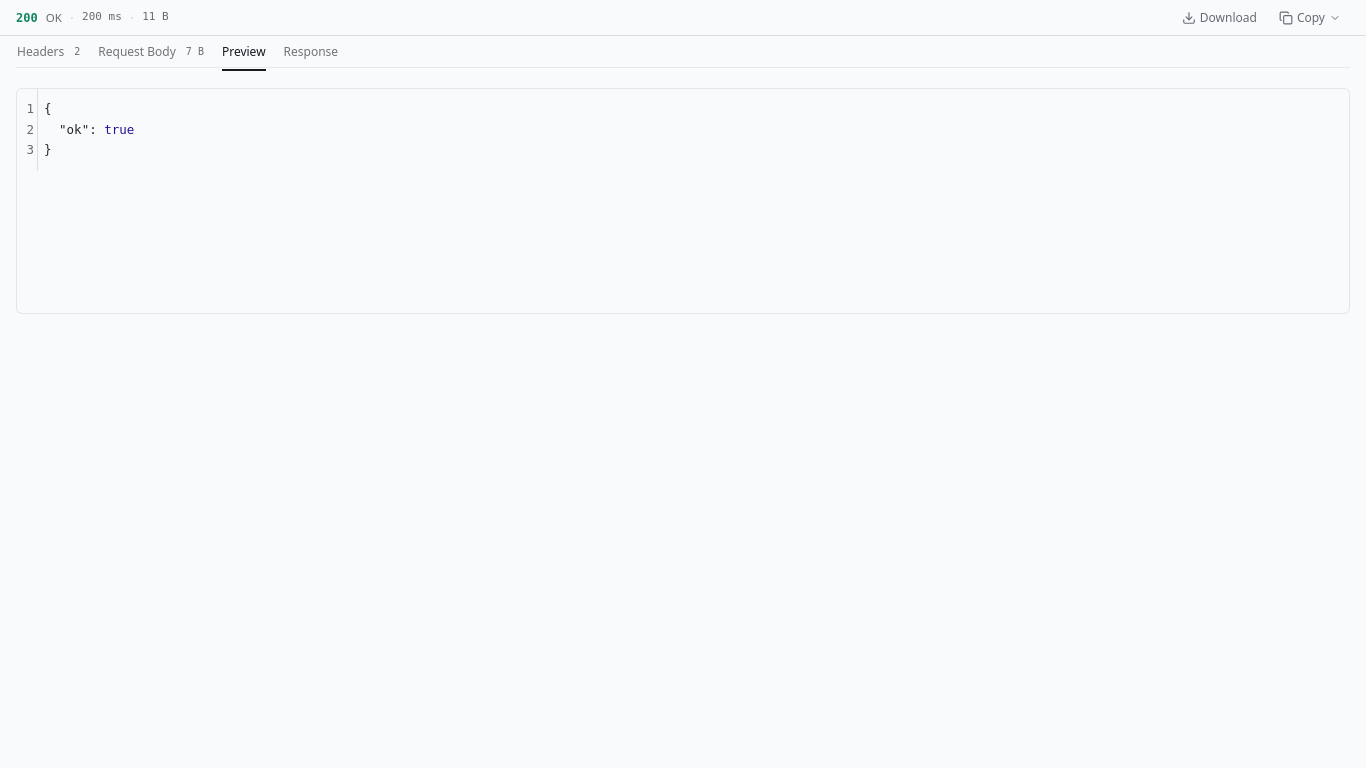
Test case: ResponsePanel — tabs › shows per-phase timing when available
Step 1. Click the tab "Headers 2" → (49, 52), box [16, 36, 81, 66]
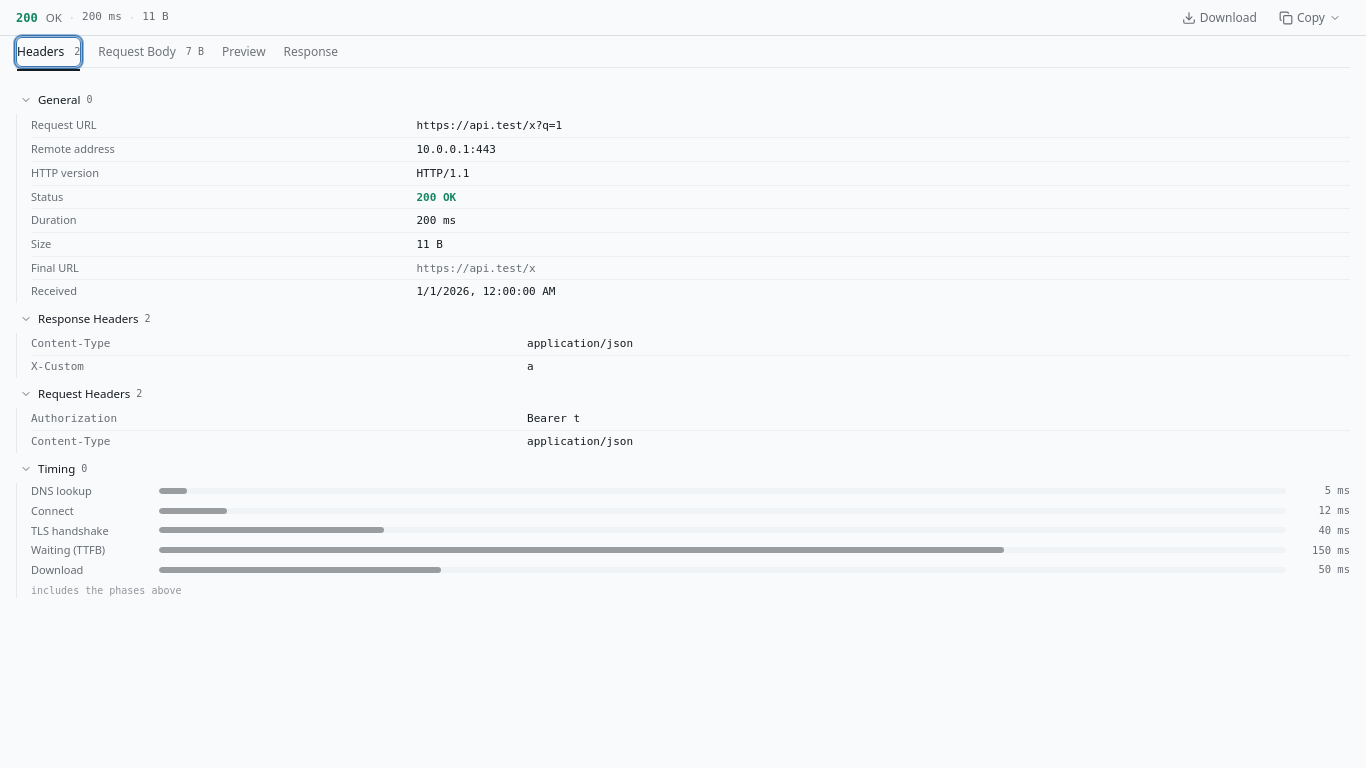
Check: the text "Timing" is shown, box [38, 461, 75, 477]
Check: the text "DNS lookup" is shown, box [31, 483, 92, 498]
Check: the text "TLS handshake" is shown, box [31, 522, 109, 538]
